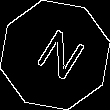N_SW: (25, 23, 85, 87)
